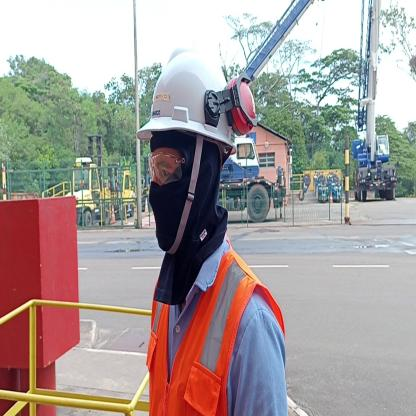Balaclava: (153, 138, 222, 252)
colete: (152, 280, 252, 416), (145, 46, 236, 142)
